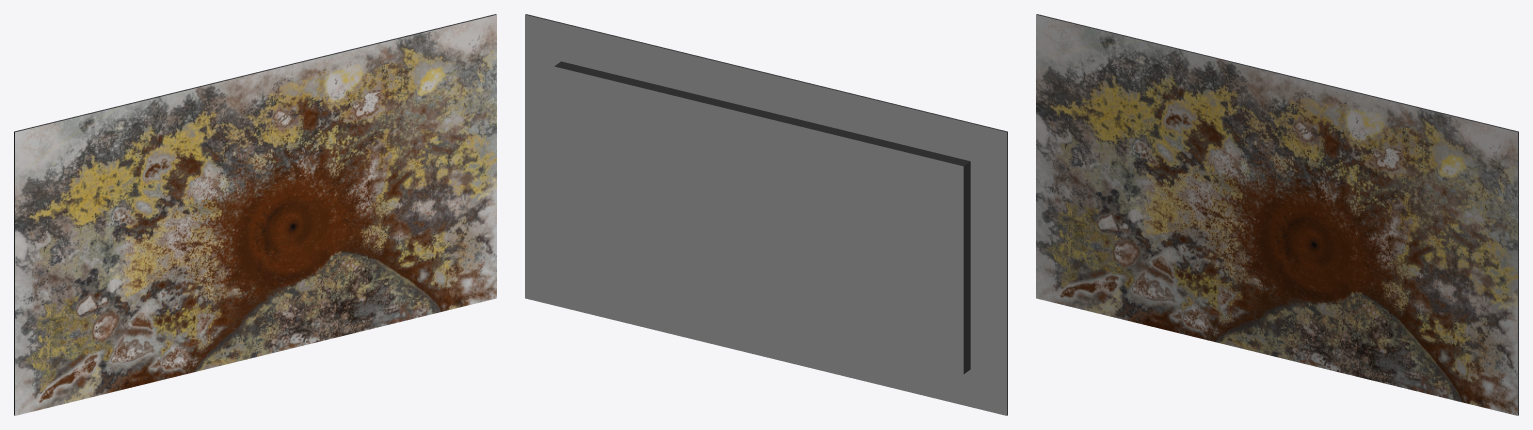
The model's file is hz061_moyen_dibond.glb.
3 renders of one model, left to right at view 1: azimuth 30°, elevation 25°; view 2: azimuth 150°, elevation 25°; view 3: azimuth 330°, elevation 25°, orthographic.
Visible parts, largest first — view 1: hz061_moyen_dibond; view 2: hz061_moyen_dibond; view 3: hz061_moyen_dibond.
Boxes of the visible parts, bbox=[...] form: hz061_moyen_dibond: bbox=[14, 14, 496, 415]; hz061_moyen_dibond: bbox=[525, 14, 1007, 415]; hz061_moyen_dibond: bbox=[1036, 14, 1518, 415].
Bounding box in the file's own units: 0.8 × 0.45 × 0.023.
Materials: 4 (1 with a texture image).
